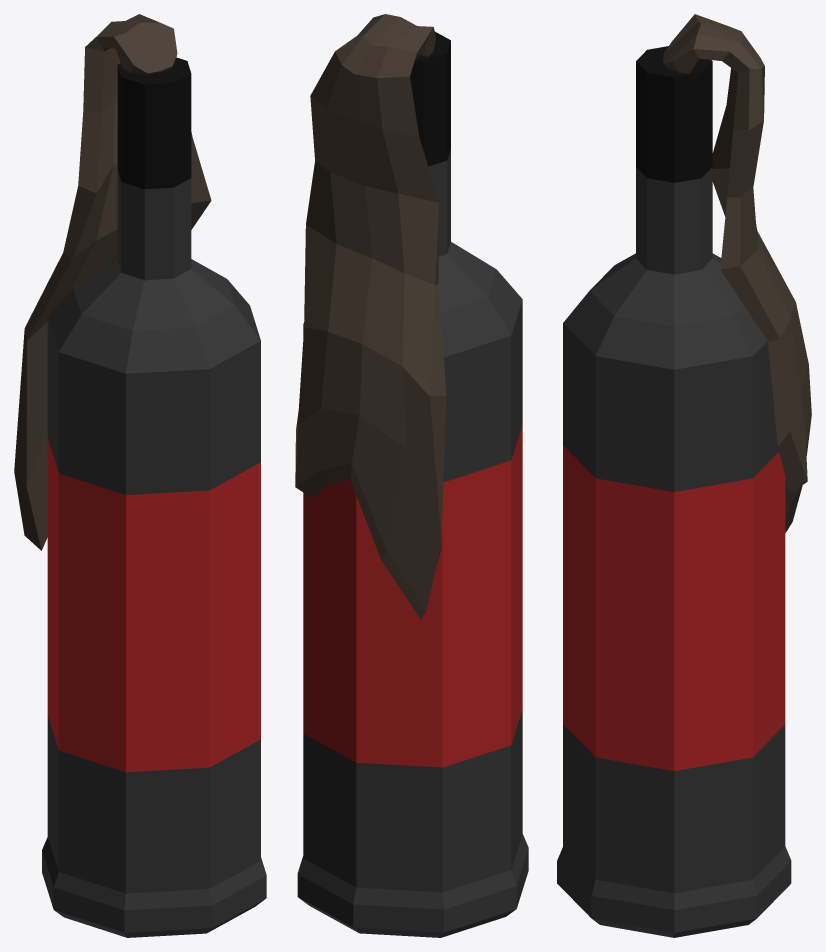
File: molotov-gf3g___h.glb
3 renders of one model, left to right at view 1: azimuth 30°, elevation 25°; view 2: azimuth 150°, elevation 25°; view 3: azimuth 270°, elevation 25°, orthographic. The views are drawn at different scales.
Parts seen in each view (by area): view 1: Incendiary_East; view 2: Incendiary_East; view 3: Incendiary_East.
Part boxes in pixels (left/top/right/bottom): Incendiary_East: left=14, top=14, right=266, bottom=937; Incendiary_East: left=295, top=14, right=528, bottom=937; Incendiary_East: left=557, top=14, right=811, bottom=937.
Size of the model in its own units: 0.0604 by 0.2473 by 0.0657.
